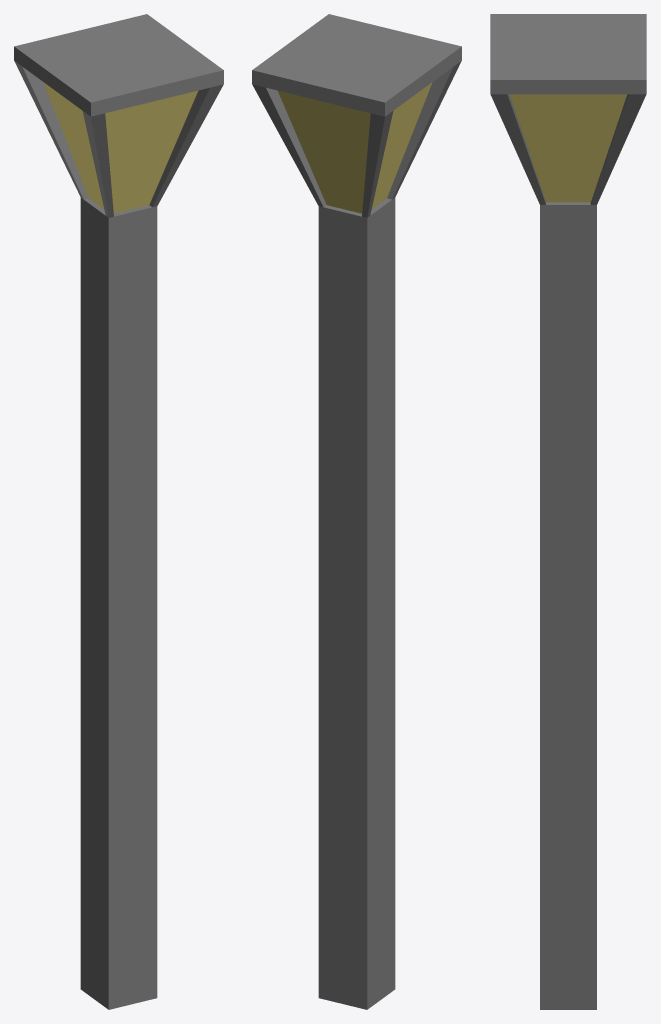
Rendered from farola.fbx.
The picture shows the model from 3 angles, left to right: view 1: azimuth 30°, elevation 25°; view 2: azimuth 150°, elevation 25°; view 3: azimuth 270°, elevation 25°; orthographic projection.
Visible parts, largest first — view 1: Cube, Plano; view 2: Cube, Plano; view 3: Cube, Plano.
Boxes of the visible parts, x1,y1,x2,y2 form: Cube: (14, 14, 223, 1009); Plano: (43, 82, 197, 213); Cube: (252, 14, 461, 1009); Plano: (278, 82, 432, 213); Cube: (490, 14, 646, 1009); Plano: (509, 94, 627, 202).
Bounding box in the file's own units: 49.39 × 332 × 49.39.
